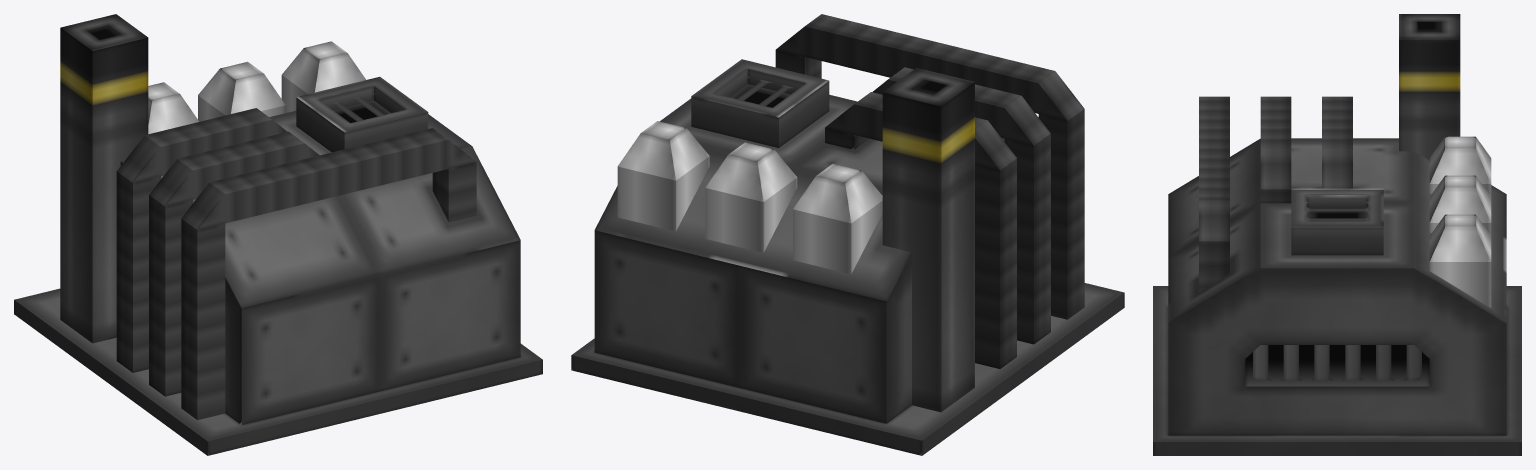
Rendered from steel_furnace.obj.
The picture shows the model from 3 angles, left to right: view 1: azimuth 30°, elevation 25°; view 2: azimuth 150°, elevation 25°; view 3: azimuth 270°, elevation 25°; orthographic projection. The views are drawn at different scales.
Visible parts, largest first — view 1: Plane; view 2: Plane; view 3: Plane.
Boxes of the visible parts, x1,y1,x2,y2 form: Plane: [14, 14, 542, 455]; Plane: [571, 14, 1124, 455]; Plane: [1153, 14, 1521, 455].
Size of the model in its own units: 3 by 2.62 by 3.
